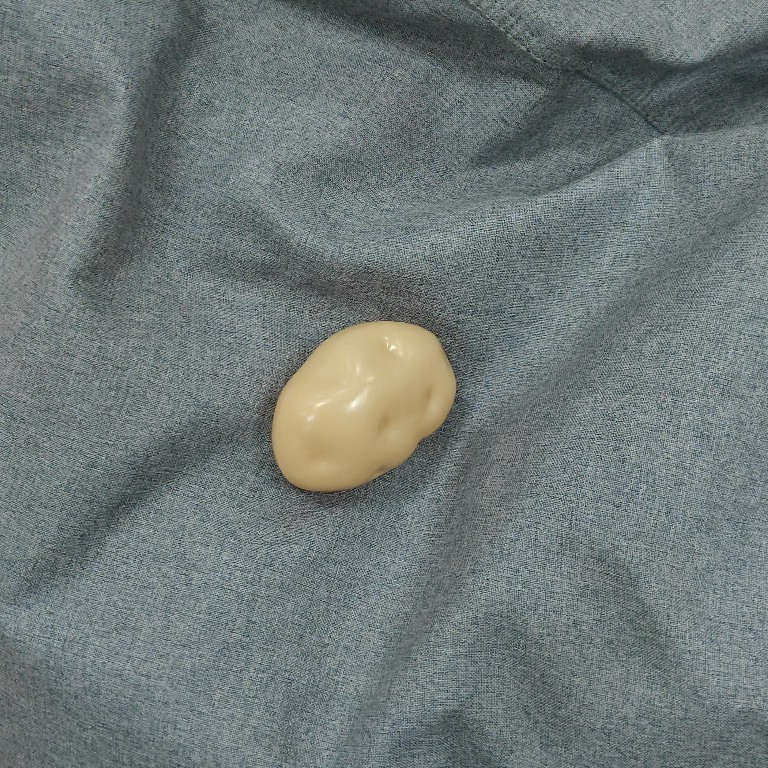fruit_potato: (264, 315, 459, 496)
